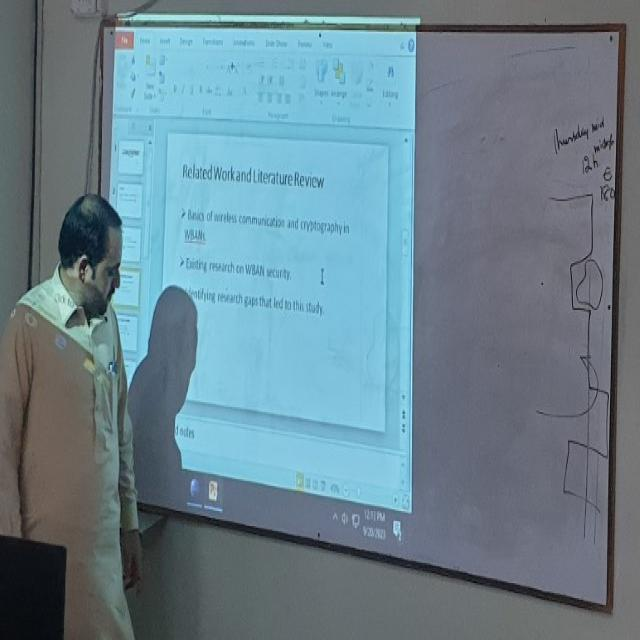Instructor: (22, 178, 136, 611)
Slide: (95, 16, 419, 553)
White-board: (91, 20, 626, 608)
